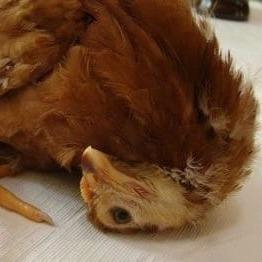AbNormal: (3, 5, 262, 244)
